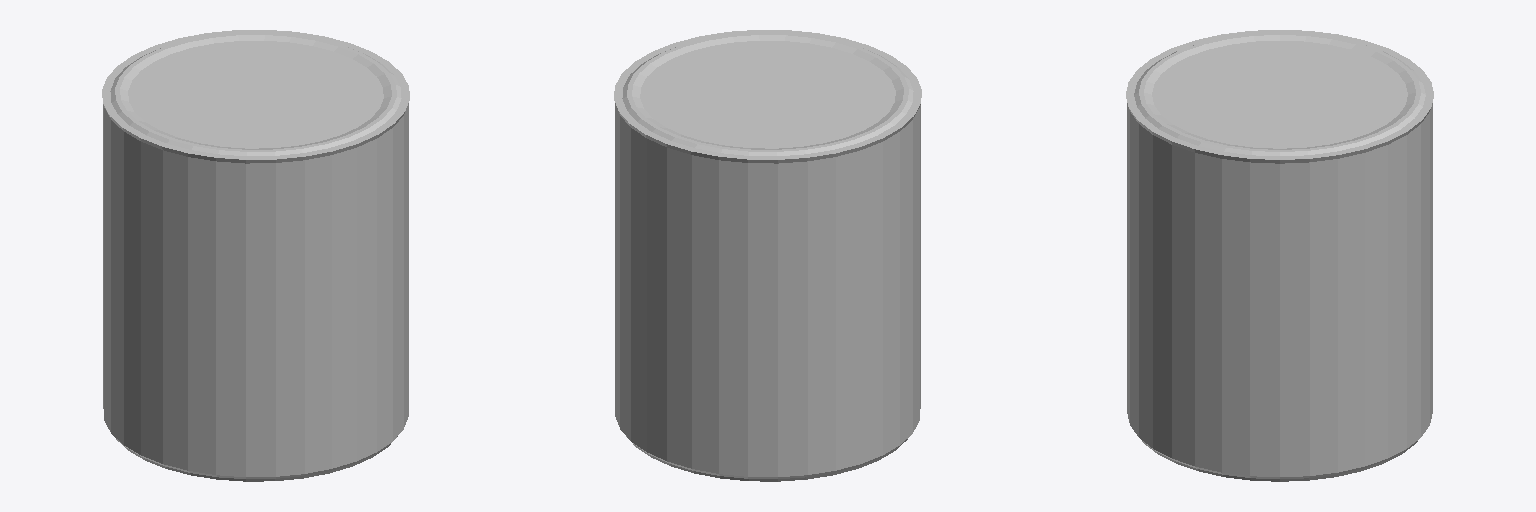
File: paint_can_final.obj
3 views of the same model, side by side, from view 1: azimuth 30°, elevation 25°; view 2: azimuth 150°, elevation 25°; view 3: azimuth 270°, elevation 25° (orthographic).
Visible parts, largest first — view 1: PaintCan_Baked; view 2: PaintCan_Baked; view 3: PaintCan_Baked.
Part boxes in pixels (x1,y1,x2,y2): PaintCan_Baked: (102,30,409,481); PaintCan_Baked: (614,30,921,481); PaintCan_Baked: (1126,30,1433,481).
Size of the model in its own units: 1.42 by 1.66 by 1.42.